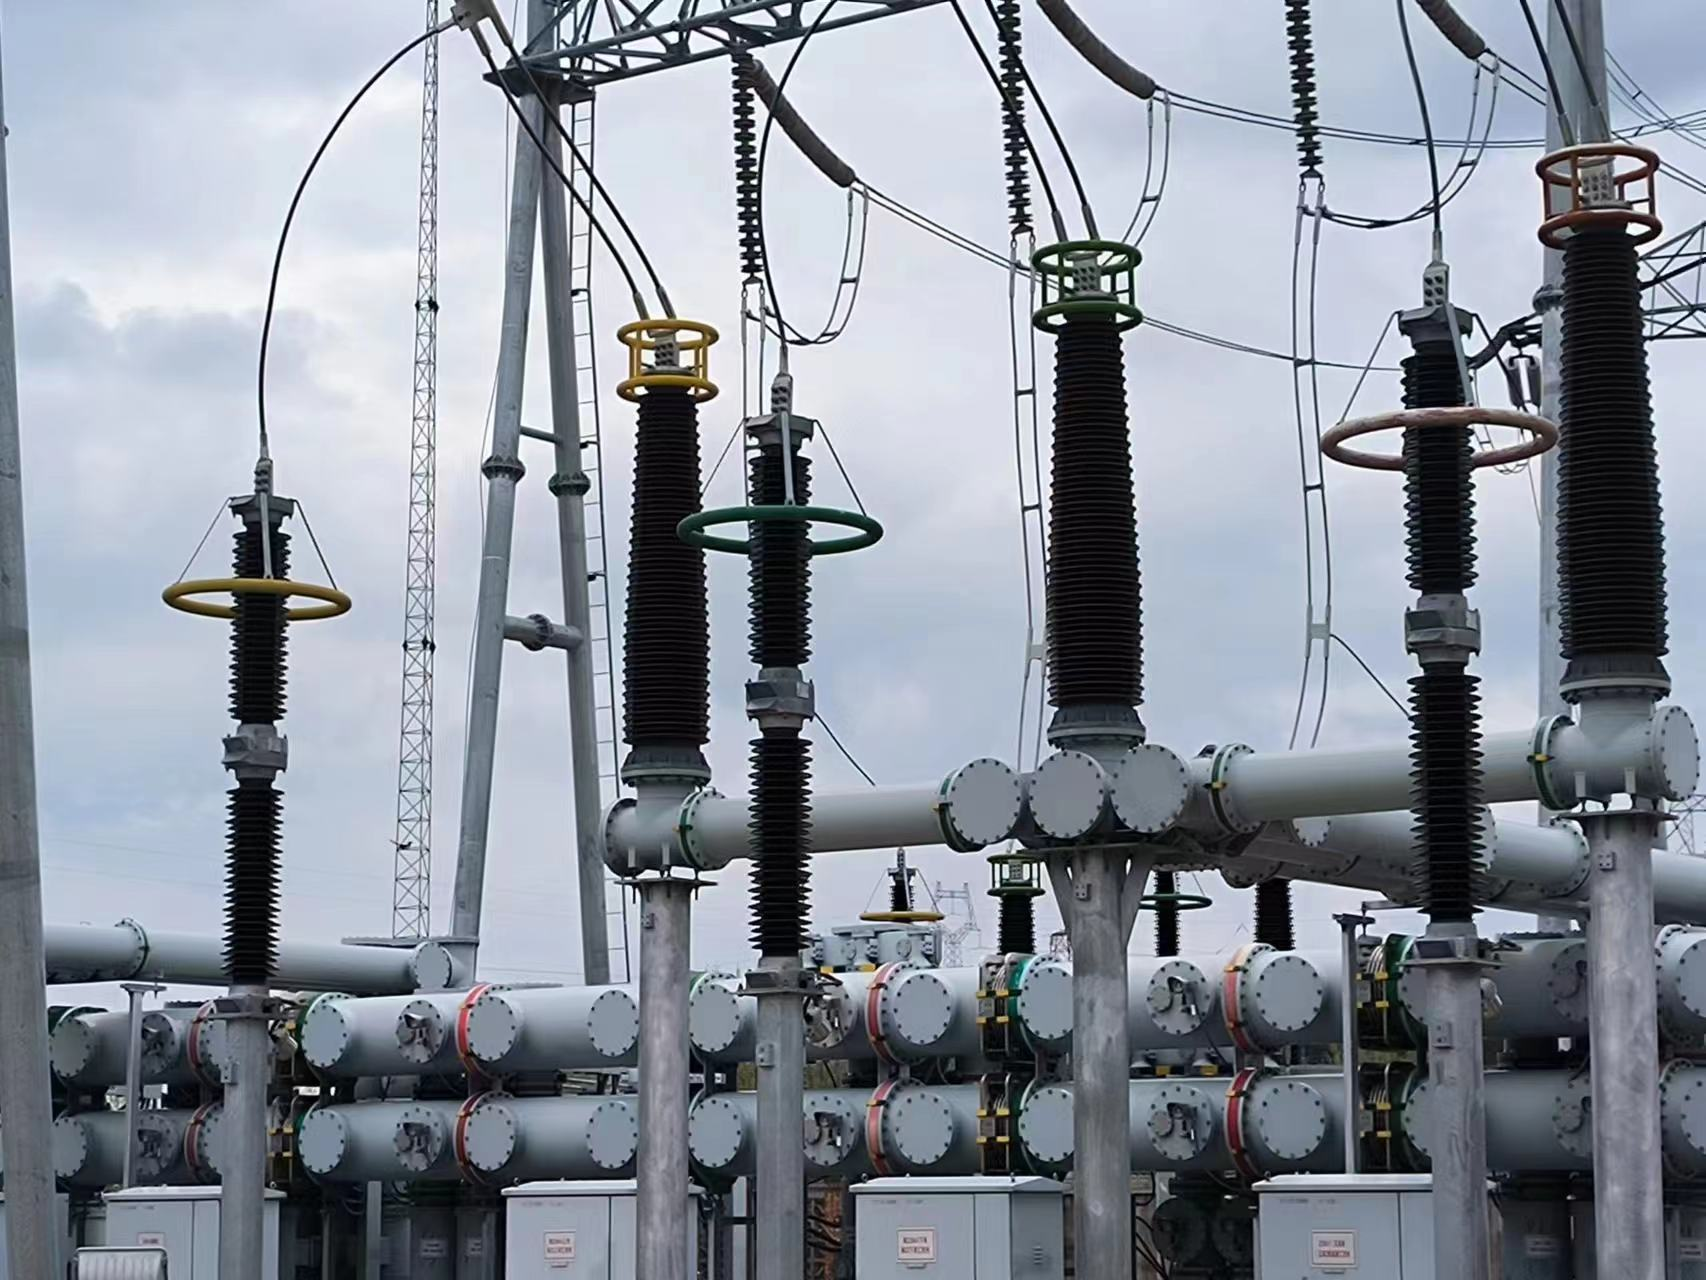Arrester: (1316, 315, 1559, 933), (680, 417, 885, 982), (151, 493, 363, 1000)
Voltage transformer: (1525, 138, 1676, 691), (1019, 243, 1156, 738), (601, 317, 727, 750)
